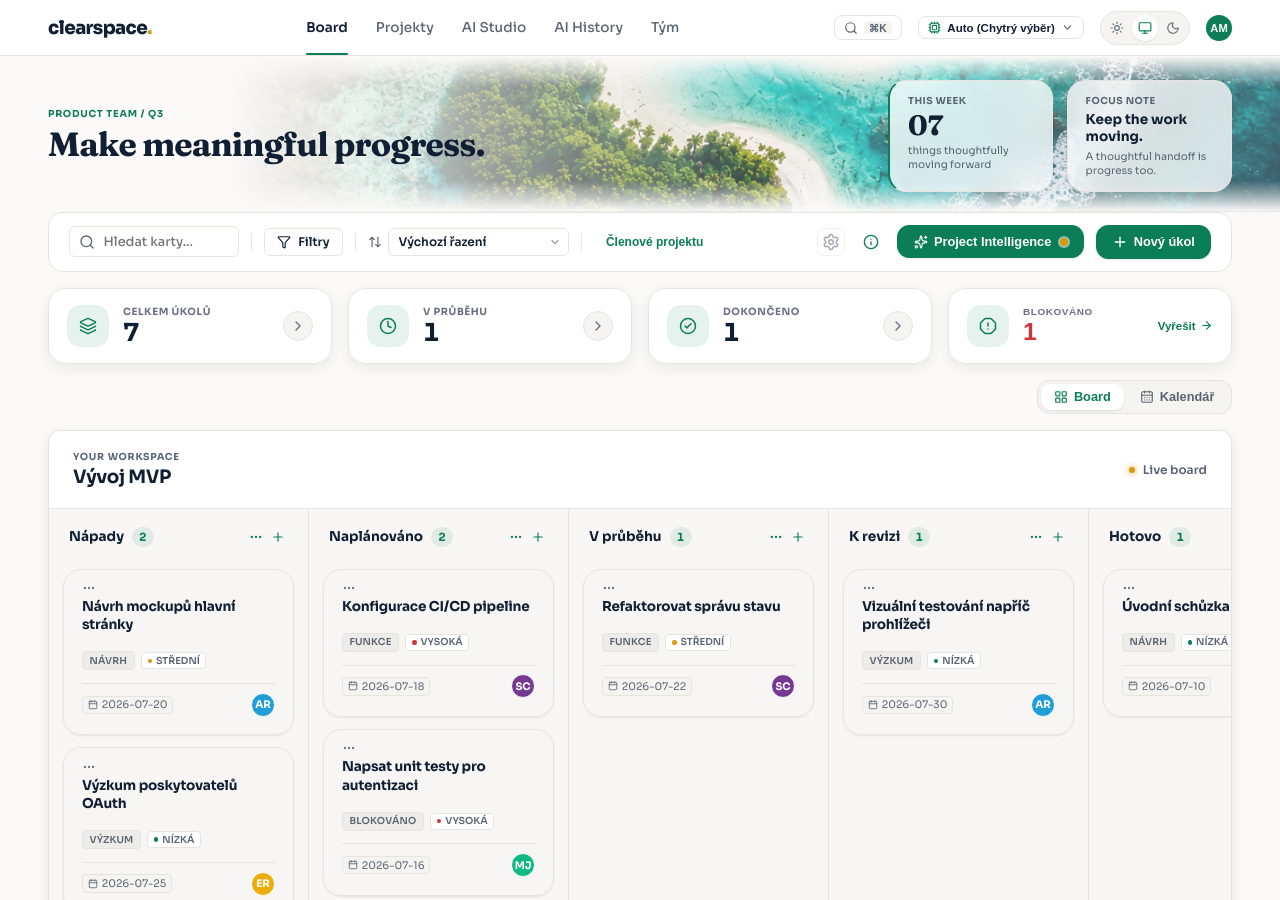
Test: Kanban Board App Unit Tests › allows editing a card
Expected: the heading "Vývoj MVP" is shown, [73,465,180,488]
Step 1. Click the element with test id "card-card-1" → (178,652), box [63,568,294,735]
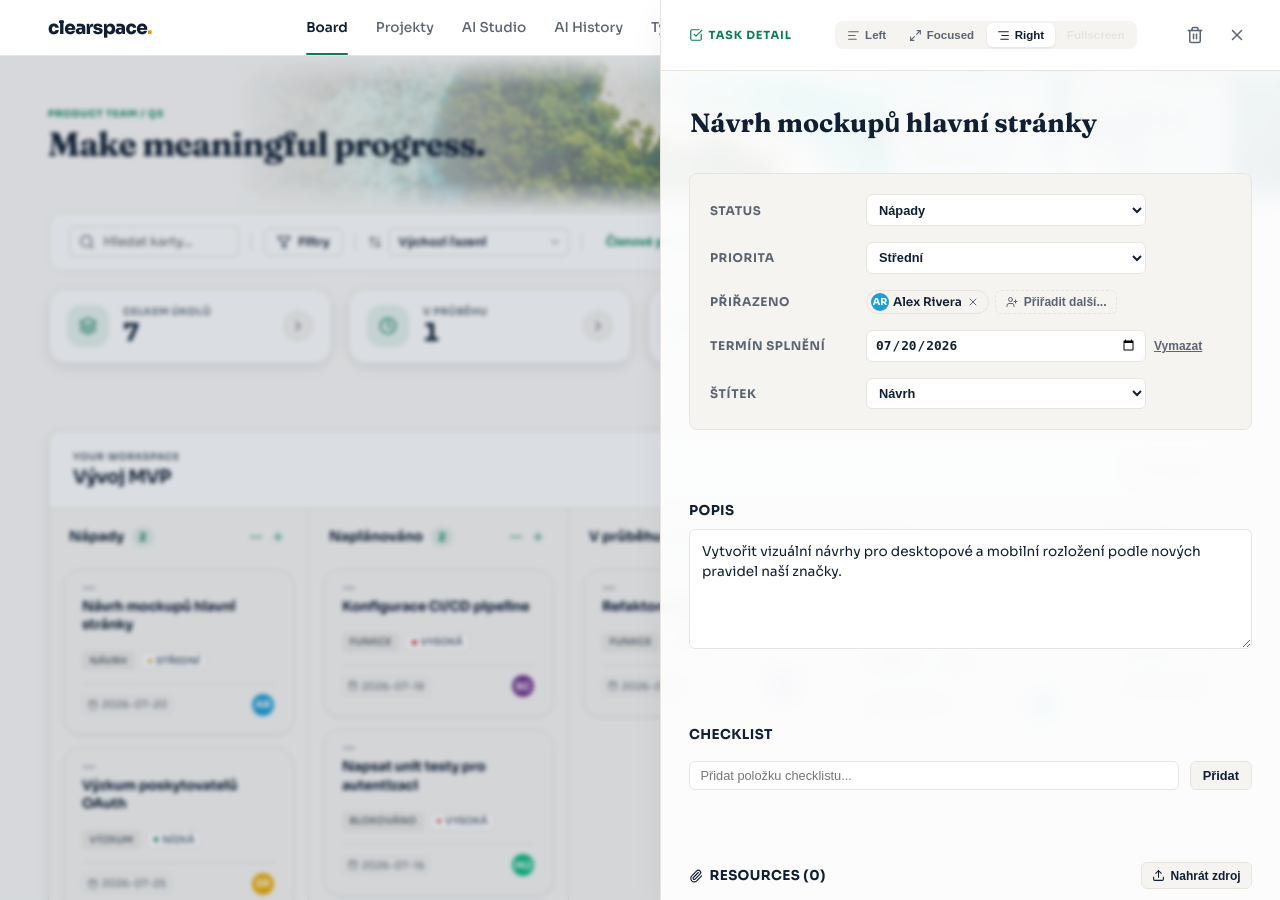
Result: the dialog is shown at [660,0,1279,899]
Result: the text "Task Detail" is shown at [689,28,792,42]
Result: the field with test id "drawer-title-input" holds "Návrh mockupů hlavní stránky"
Note: Změna názvu karty
Step 2. Replace the text in the field with test id "drawer-title-input" with "Návrh mockupů hlavní stránky v2" → (962,122), box [681,99,1244,145]
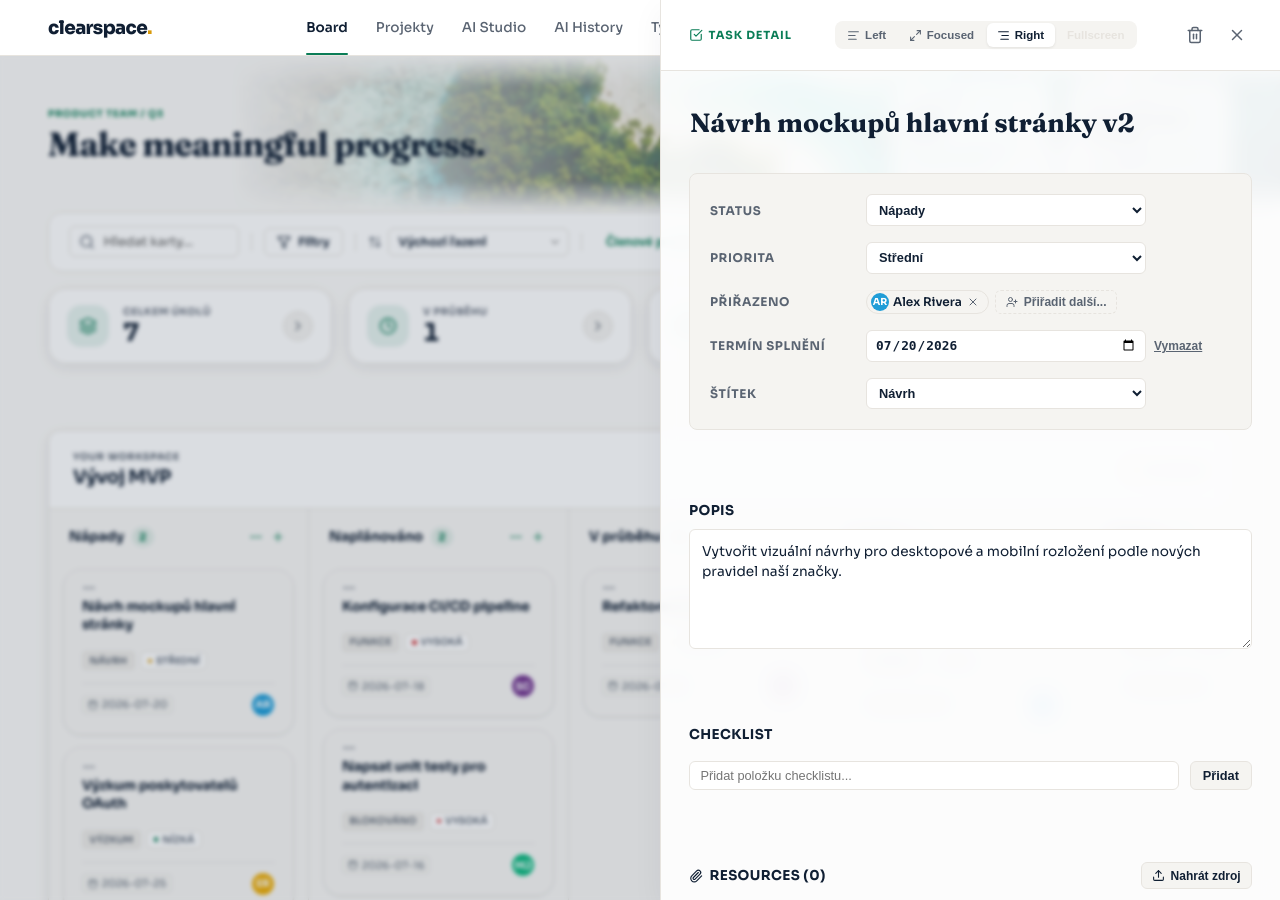
Step 3. Leave the field with test id "drawer-title-input", box [681,99,1244,145]
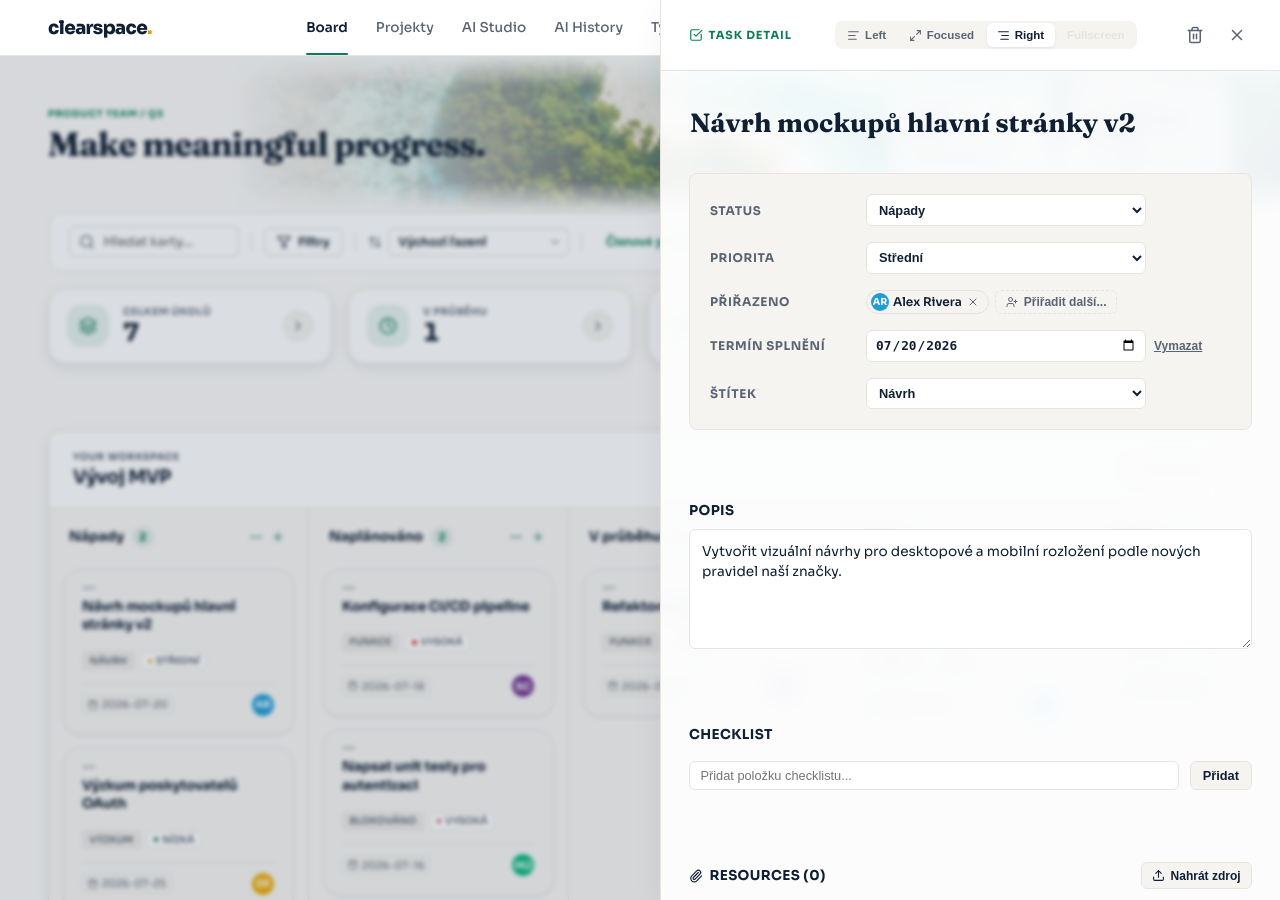
Result: the heading "Návrh mockupů hlavní stránky v2" is shown at [82,598,235,633]
